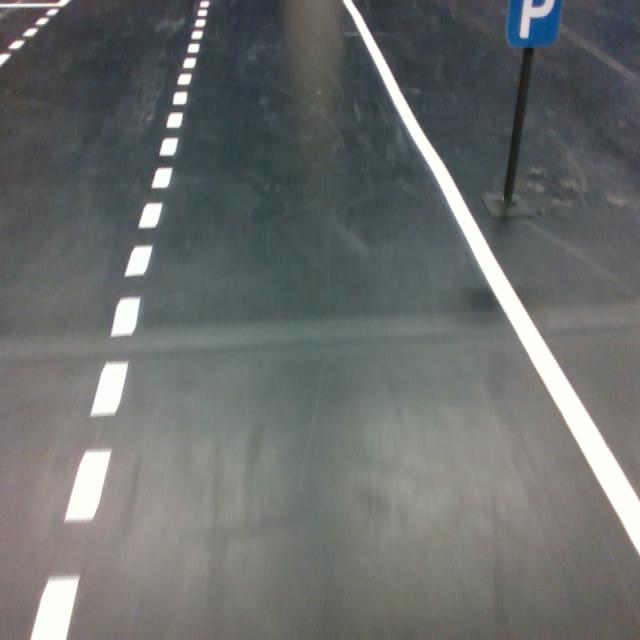parking-sign: (504, 0, 562, 49)
